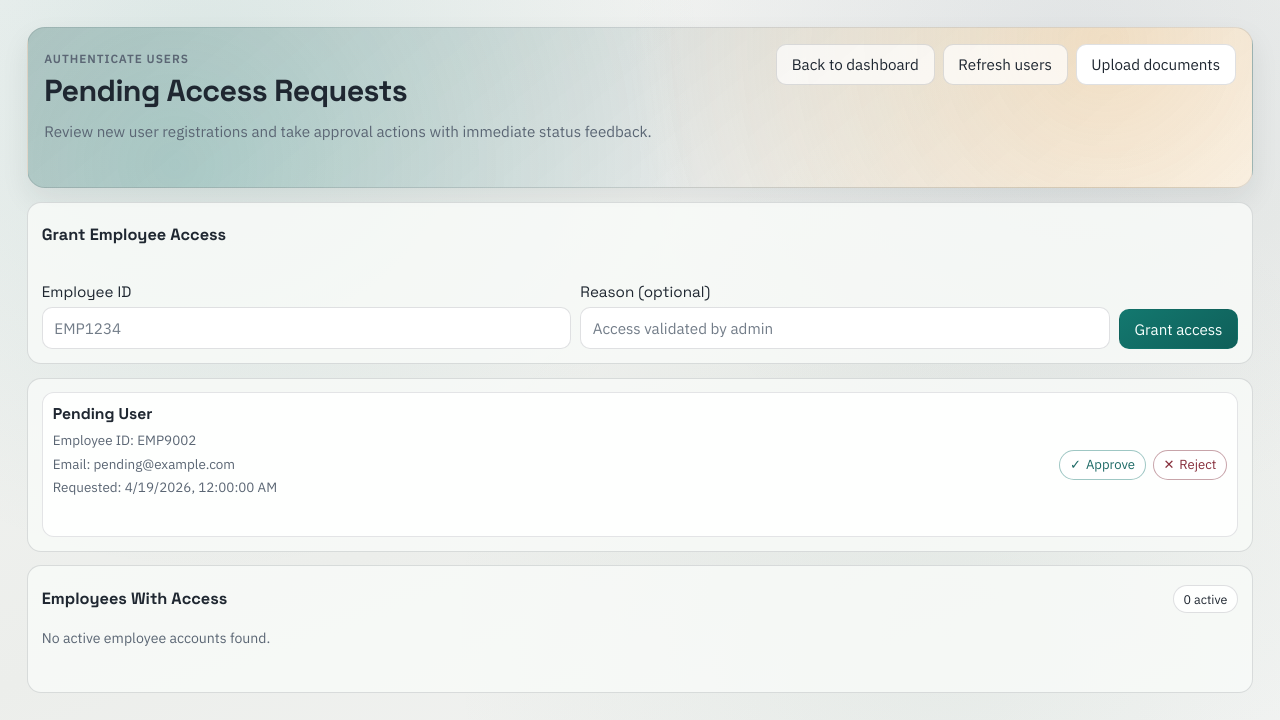
Test case: admin user approval panel › optimistically removes user and confirms approval
The image size is (1280, 720).
Expected: the heading "Pending User" is shown, 53,404 -> 152,424
Click the button with aria-label "Approve Pending User" at (1103, 465), box 1059,450 -> 1146,480
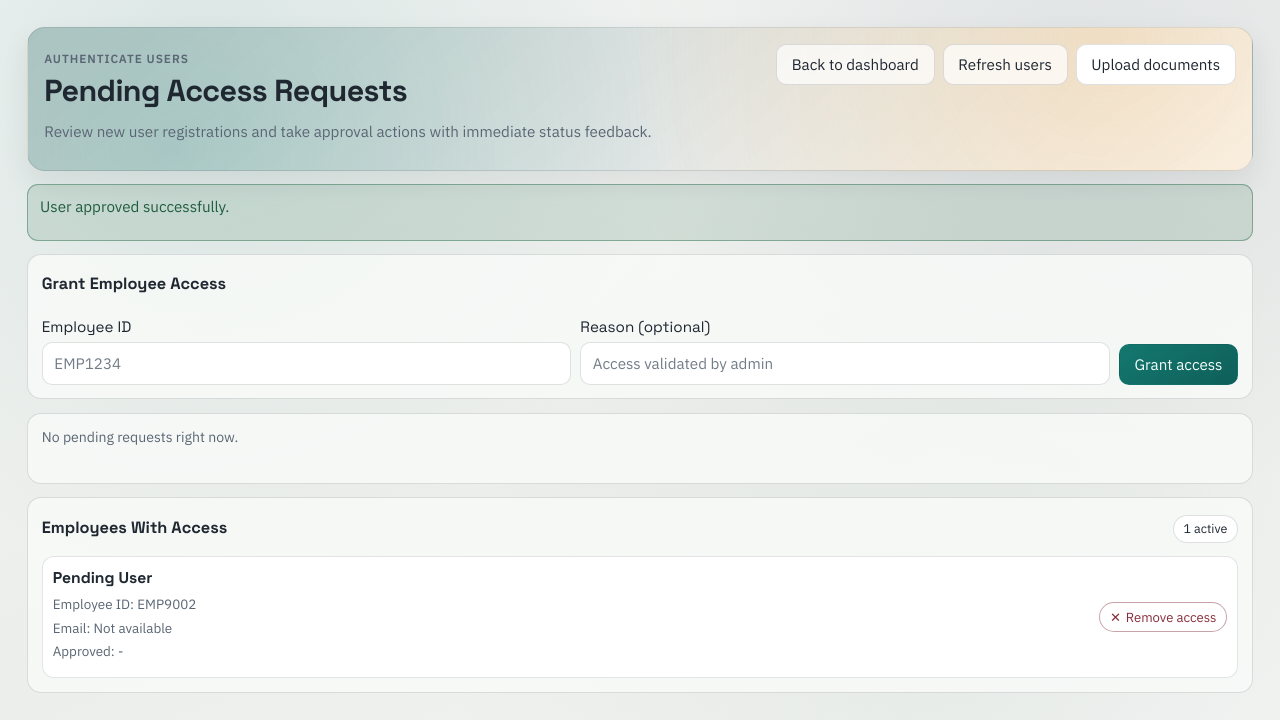
Expected: the text "User approved successfully." is shown, 27,184 -> 1253,241
Expected: the button with aria-label "Remove access for Pending User" is shown, 1099,602 -> 1227,632
